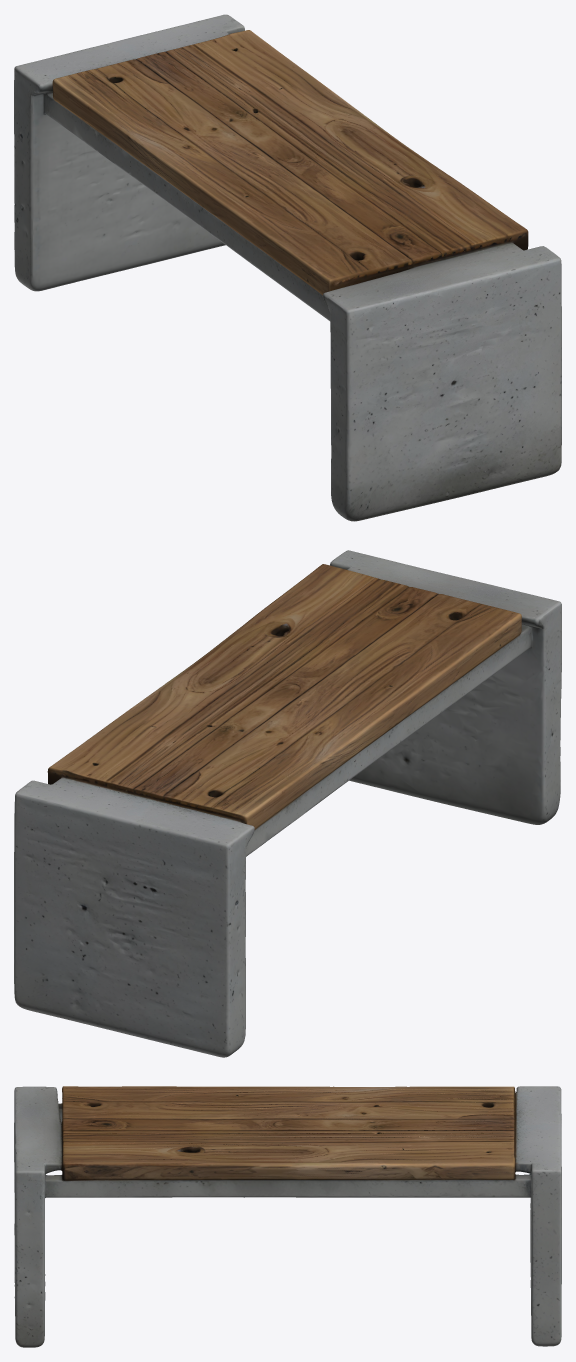
File: plaza-bench-modern.glb
3 renders of one model, top to bottom at view 1: azimuth 30°, elevation 25°; view 2: azimuth 150°, elevation 25°; view 3: azimuth 270°, elevation 25°, orthographic. The views are drawn at different scales.
Visible parts, largest first — view 1: tripo_node_40bedd8a-d6cd-4596-a13a-62cafa25ff6f; view 2: tripo_node_40bedd8a-d6cd-4596-a13a-62cafa25ff6f; view 3: tripo_node_40bedd8a-d6cd-4596-a13a-62cafa25ff6f.
Part boxes in pixels (x1,y1,x2,y2): tripo_node_40bedd8a-d6cd-4596-a13a-62cafa25ff6f: (14, 14, 561, 521); tripo_node_40bedd8a-d6cd-4596-a13a-62cafa25ff6f: (14, 550, 561, 1057); tripo_node_40bedd8a-d6cd-4596-a13a-62cafa25ff6f: (14, 1086, 561, 1347).
Bounding box in the file's own units: 0.7988 × 0.7999 × 2.14.
Materials: 1 (1 with a texture image).
